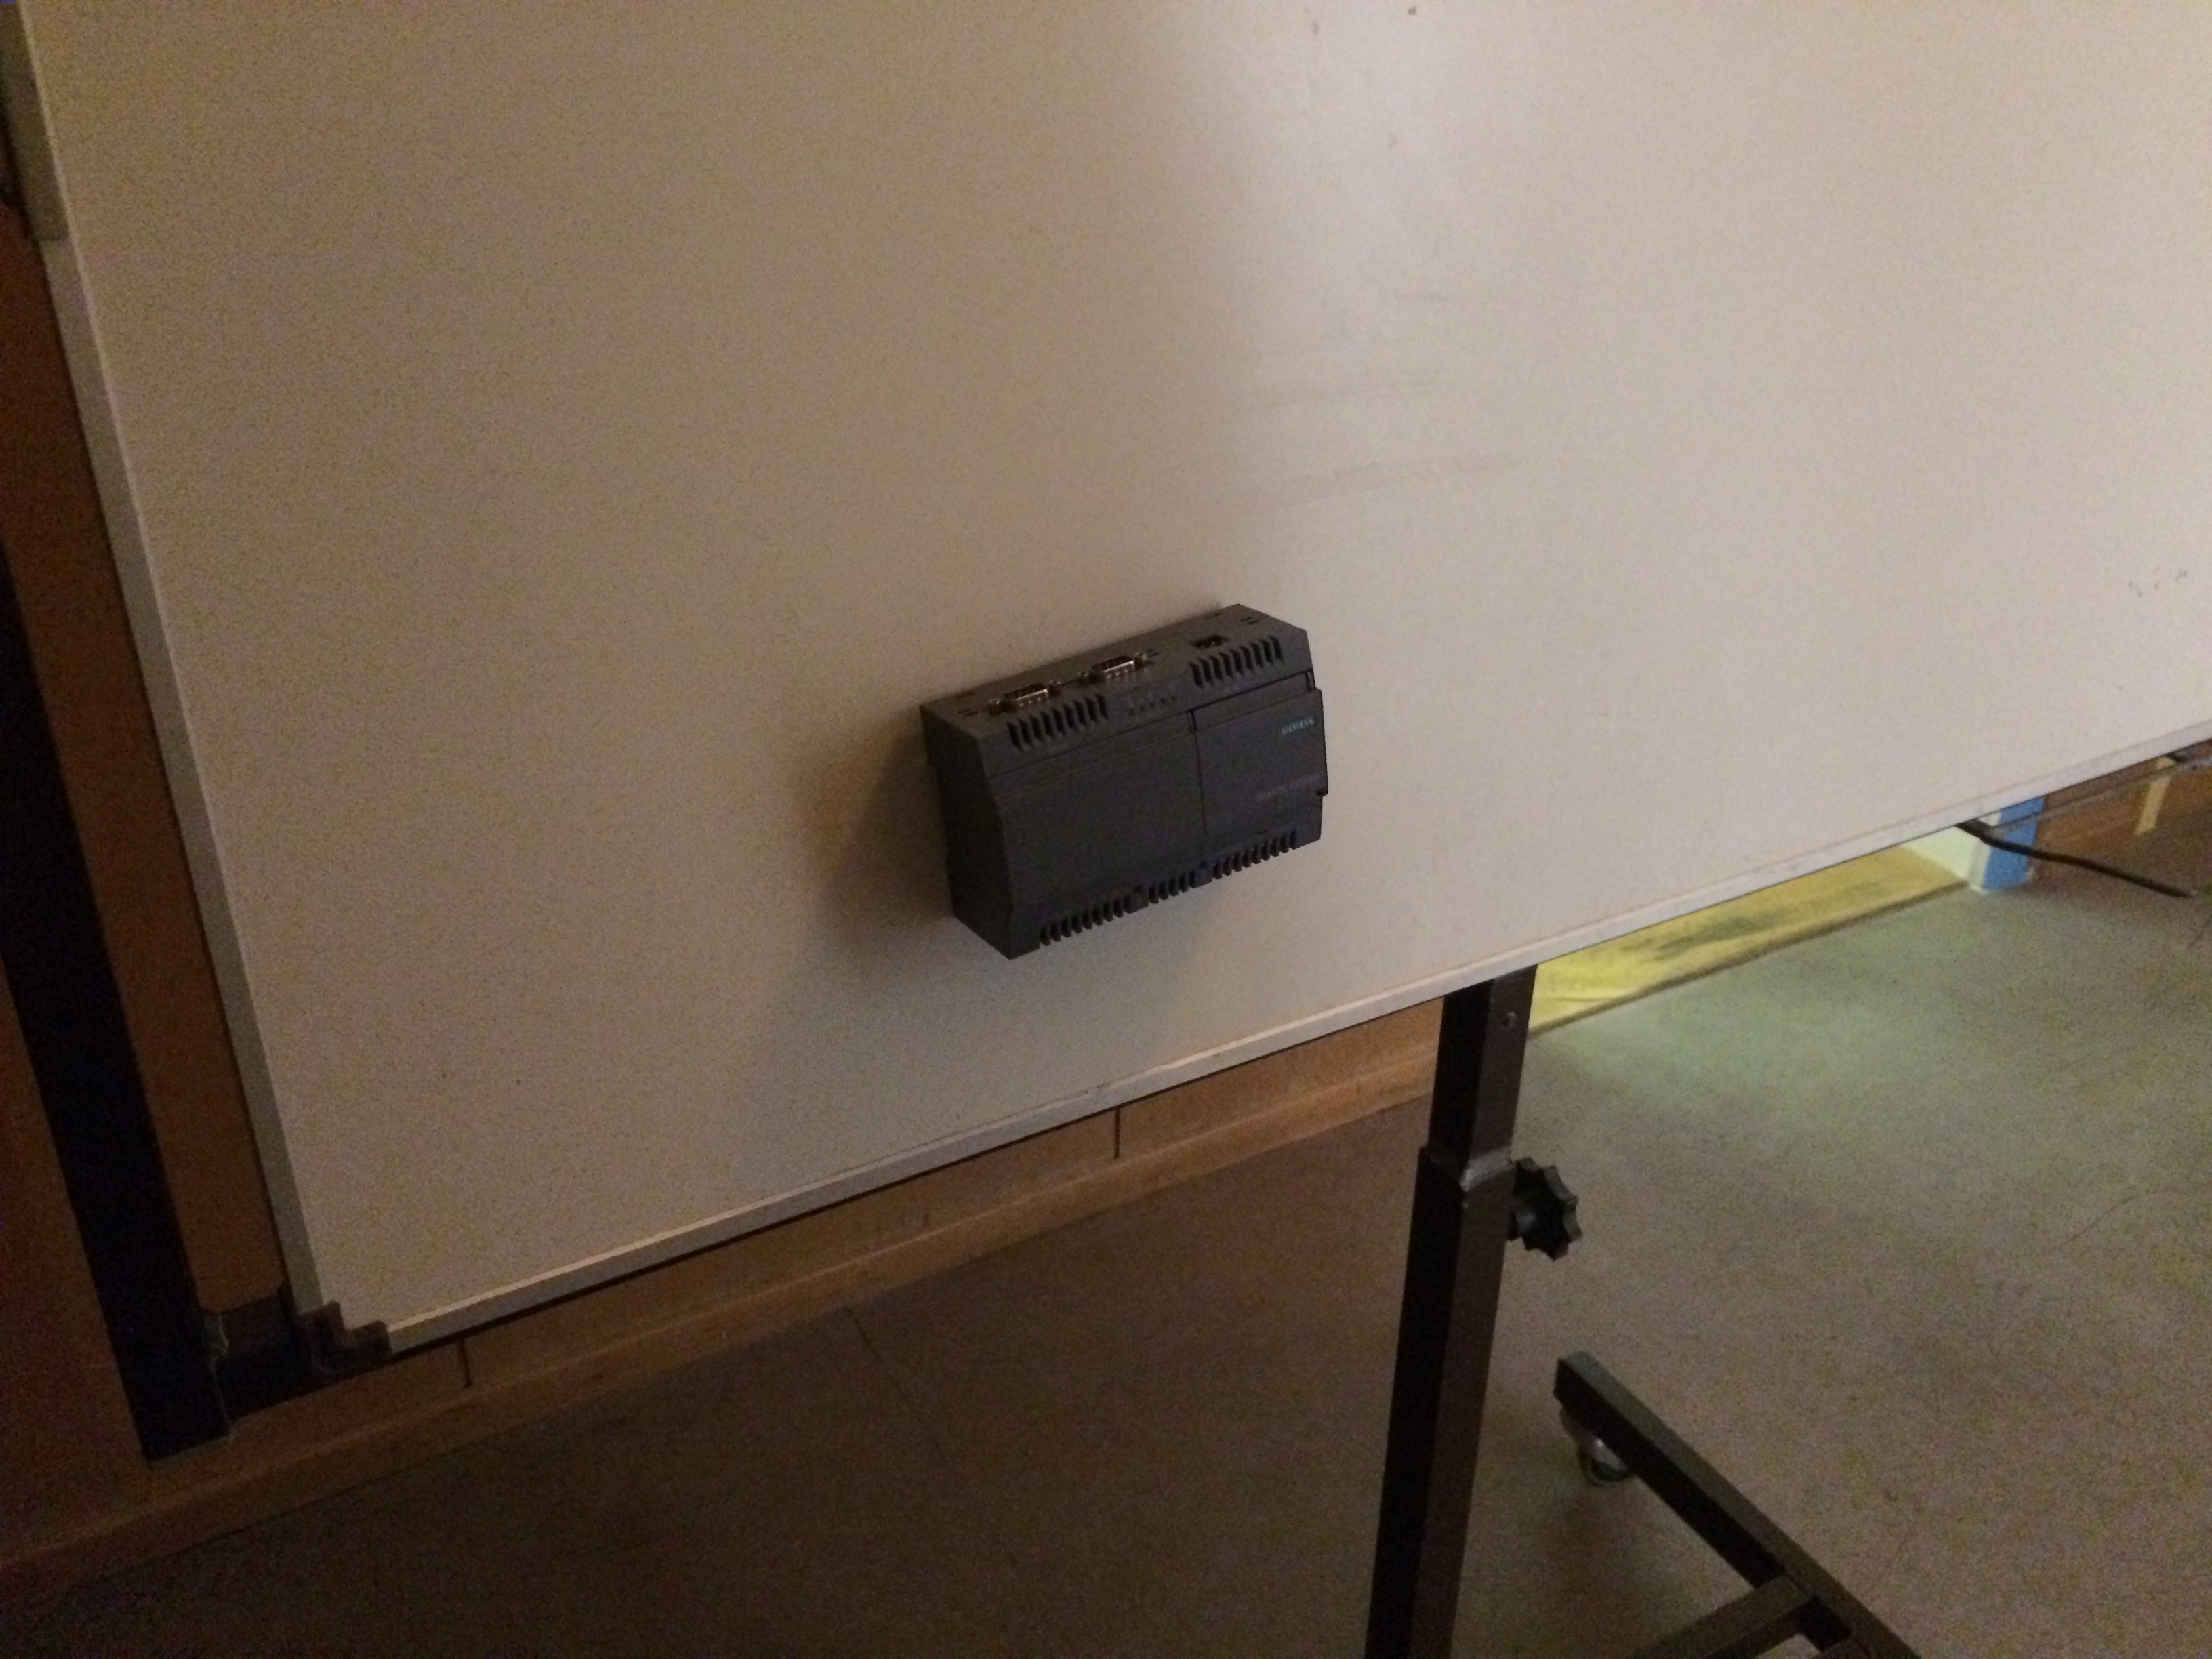iot2000: (913, 599, 1332, 964)
